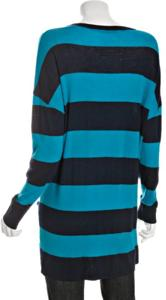C_cardigan sweater: (17, 25, 164, 275)
